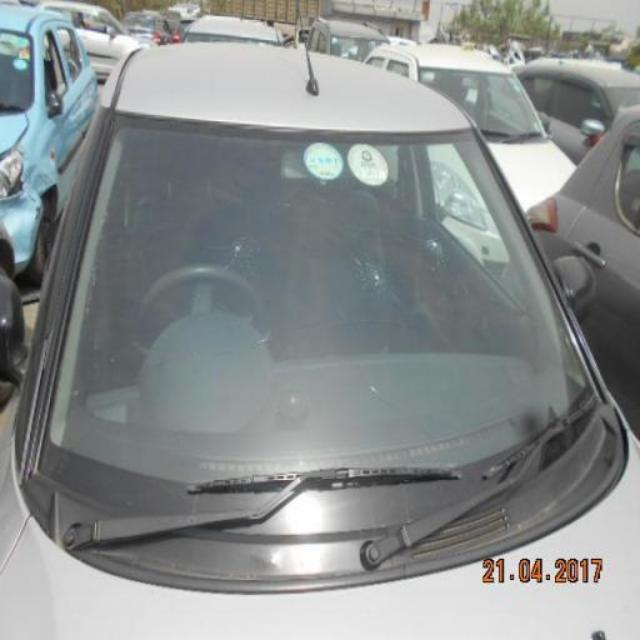glass shatter: (357, 251, 389, 309), (421, 230, 449, 265), (223, 238, 247, 262)
